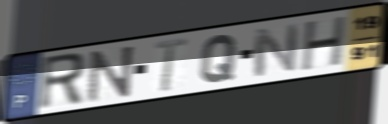H: (298, 13, 349, 74)
N: (86, 43, 137, 105), (251, 22, 301, 79)
Q: (198, 33, 240, 85)
R: (36, 50, 87, 112)
T: (153, 36, 189, 94)
